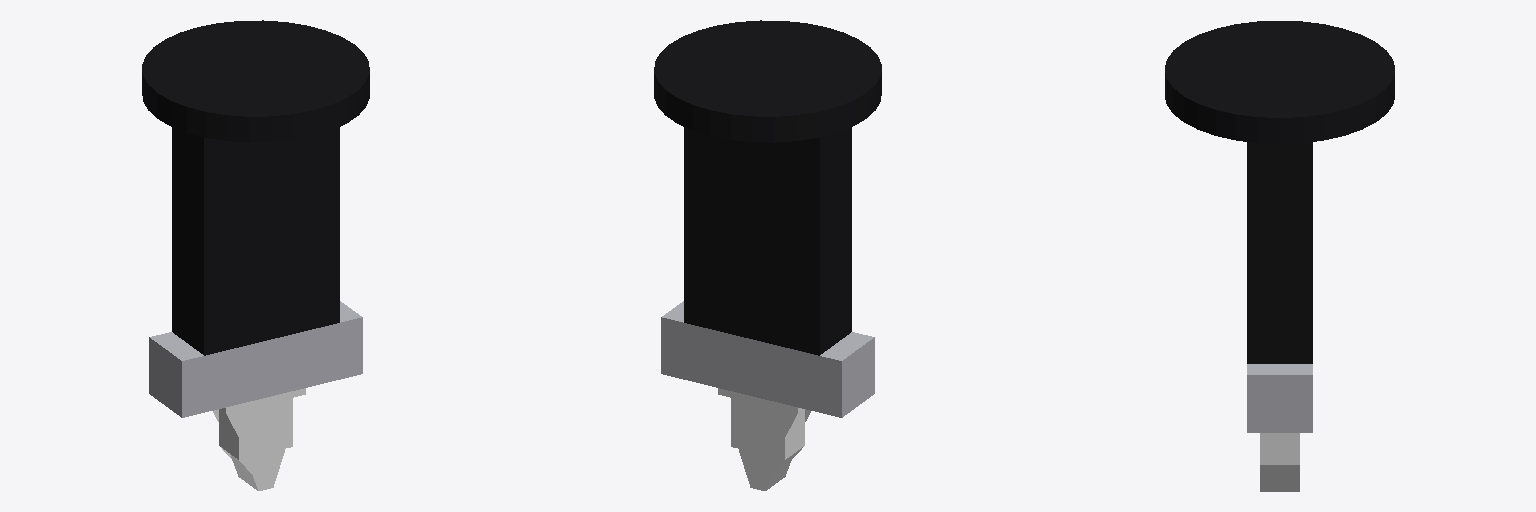
The robot description file, URDF, robot "pgea_100_40_o":
<?xml version="1.0"?>
<robot name="pgea_100_40_o">
<link name="world"/>
<link name="lx"><inertial><mass value="0.01"/><inertia ixx="1e-5" iyy="1e-5" izz="1e-5" ixy="0" ixz="0" iyz="0"/></inertial></link>
<link name="ly"><inertial><mass value="0.01"/><inertia ixx="1e-5" iyy="1e-5" izz="1e-5" ixy="0" ixz="0" iyz="0"/></inertial></link>
<link name="lz"><inertial><mass value="0.01"/><inertia ixx="1e-5" iyy="1e-5" izz="1e-5" ixy="0" ixz="0" iyz="0"/></inertial></link>
<link name="flange"><inertial><mass value="0.01"/><inertia ixx="1e-5" iyy="1e-5" izz="1e-5" ixy="0" ixz="0" iyz="0"/></inertial></link>
<joint name="px" type="prismatic"><parent link="world"/><child link="lx"/><axis xyz="1 0 0"/><limit lower="-0.3" upper="0.3" effort="200" velocity="0.5"/></joint>
<joint name="py" type="prismatic"><parent link="lx"/><child link="ly"/><axis xyz="0 1 0"/><limit lower="-0.3" upper="0.3" effort="200" velocity="0.5"/></joint>
<joint name="pz" type="prismatic"><parent link="ly"/><child link="lz"/><axis xyz="0 0 1"/><limit lower="0.0" upper="0.5" effort="200" velocity="0.5"/></joint>
<!-- rpy π: 공구 +Z(손가락 방향)가 아래를 보게 뒤집음 -->
<joint name="yaw" type="revolute"><origin rpy="3.14159 0 0"/><parent link="lz"/><child link="flange"/><axis xyz="0 0 -1"/><limit lower="-3.2" upper="3.2" effort="50" velocity="3"/></joint>
  <!-- ===== DH Robotics PGEA-100-40-O (measured 2026-11-21; see make_pgea_urdf.py for assumed values) ===== -->
  <material name="pgea_black"><color rgba="0.12 0.12 0.13 1"/></material>
  <material name="pgea_white"><color rgba="0.92 0.92 0.92 1"/></material>
  <material name="pgea_alu"><color rgba="0.75 0.75 0.78 1"/></material>
  <joint name="pgea_mount" type="fixed">
    <origin xyz="0 0 0" rpy="0 0 0"/><parent link="flange"/><child link="pgea_base"/>
  </joint>
  <link name="pgea_base">
    <inertial><origin xyz="0 0 0.065"/><mass value="0.55"/>
      <inertia ixx="0.000755517" ixy="0" ixz="0" iyy="0.000820829" iyz="0" izz="0.000211979"/></inertial>
    <visual name="adapter"><origin xyz="0 0 0.0050"/><geometry><cylinder radius="0.0400" length="0.0100"/></geometry><material name="pgea_black"/></visual>
    <collision name="adapter"><origin xyz="0 0 0.0050"/><geometry><cylinder radius="0.0400" length="0.0100"/></geometry></collision>
    <visual name="body"><origin xyz="0 0 0.0550"/><geometry><box size="0.0550 0.0230 0.0900"/></geometry><material name="pgea_black"/></visual>
    <collision name="body"><origin xyz="0 0 0.0550"/><geometry><box size="0.0550 0.0230 0.0900"/></geometry></collision>
    <visual name="housing"><origin xyz="0 0 0.1110"/><geometry><box size="0.0730 0.0230 0.0220"/></geometry><material name="pgea_alu"/></visual>
    <collision name="housing"><origin xyz="0 0 0.1110"/><geometry><box size="0.0730 0.0230 0.0220"/></geometry></collision>
  </link>
  <link name="finger_left">
    <inertial><origin xyz="0.0080 0 0.019"/><mass value="0.03"/>
      <inertia ixx="4.61e-06" ixy="0" ixz="0" iyy="4.25e-06" iyz="0" izz="1.64e-06"/></inertial>
    <visual><geometry><mesh filename="../meshes/finger_left.stl"/></geometry><material name="pgea_white"/></visual>
    <collision name="jaw"><origin xyz="0.0080 0 0.0025"/><geometry><box size="0.0160 0.0060 0.0050"/></geometry></collision>
    <collision name="upper"><origin xyz="0.0055 0 0.0145"/><geometry><box size="0.0110 0.0140 0.0190"/></geometry></collision>
    <collision name="tip"><geometry><mesh filename="../meshes/finger_left_tip.stl"/></geometry></collision>
  </link>
  <joint name="finger_left_joint" type="prismatic">
    <origin xyz="0 0 0.1220" rpy="0 0 0"/><parent link="pgea_base"/><child link="finger_left"/>
    <axis xyz="1 0 0"/><limit lower="0" upper="0.0220" effort="100" velocity="0.05"/>
  </joint>
  <link name="finger_right">
    <inertial><origin xyz="-0.0080 0 0.019"/><mass value="0.03"/>
      <inertia ixx="4.61e-06" ixy="0" ixz="0" iyy="4.25e-06" iyz="0" izz="1.64e-06"/></inertial>
    <visual><geometry><mesh filename="../meshes/finger_right.stl"/></geometry><material name="pgea_white"/></visual>
    <collision name="jaw"><origin xyz="-0.0080 0 0.0025"/><geometry><box size="0.0160 0.0060 0.0050"/></geometry></collision>
    <collision name="upper"><origin xyz="-0.0055 0 0.0145"/><geometry><box size="0.0110 0.0140 0.0190"/></geometry></collision>
    <collision name="tip"><geometry><mesh filename="../meshes/finger_right_tip.stl"/></geometry></collision>
  </link>
  <joint name="finger_right_joint" type="prismatic">
    <origin xyz="0 0 0.1220" rpy="0 0 0"/><parent link="pgea_base"/><child link="finger_right"/>
    <axis xyz="-1 0 0"/><limit lower="0" upper="0.0220" effort="100" velocity="0.05"/>
  </joint>
  <!-- TCP = fingertip centre, FR5 tool 1 (0, 0, 160) -->
  <link name="tcp"/>
  <joint name="tcp_joint" type="fixed">
    <origin xyz="0 0 0.1600" rpy="0 0 0"/><parent link="pgea_base"/><child link="tcp"/>
  </joint>
  <!-- D435 + bracket: add a fixed camera link here once the mount is measured (design 5.2) -->
</robot>

--- Facts derived from the render (not from the file) ---
The picture shows the robot from 3 angles, left to right: view 1: azimuth 30°, elevation 25°; view 2: azimuth 150°, elevation 25°; view 3: azimuth 270°, elevation 25°; orthographic projection.
Robot: pgea_100_40_o — 9 links, 8 joints (1 revolute, 5 prismatic, 2 fixed); root link world; default pose: every joint at zero.
Visible links, largest first — view 1: pgea_base, finger_right, finger_left; view 2: pgea_base, finger_right, finger_left; view 3: pgea_base, finger_left.
Boxes of the visible links, x1,y1,x2,y2 form: pgea_base: (142,20,369,417); finger_right: (213,398,265,490); finger_left: (266,388,305,489); pgea_base: (654,20,881,417); finger_right: (758,398,810,490); finger_left: (718,388,757,489); pgea_base: (1165,21,1394,432); finger_left: (1260,433,1299,491).
Size in the robot's own frame: 0.08 by 0.08 by 0.16 metres.
Meshes: 2 distinct files referenced, 2 mesh visuals loaded (2 binary STL).
